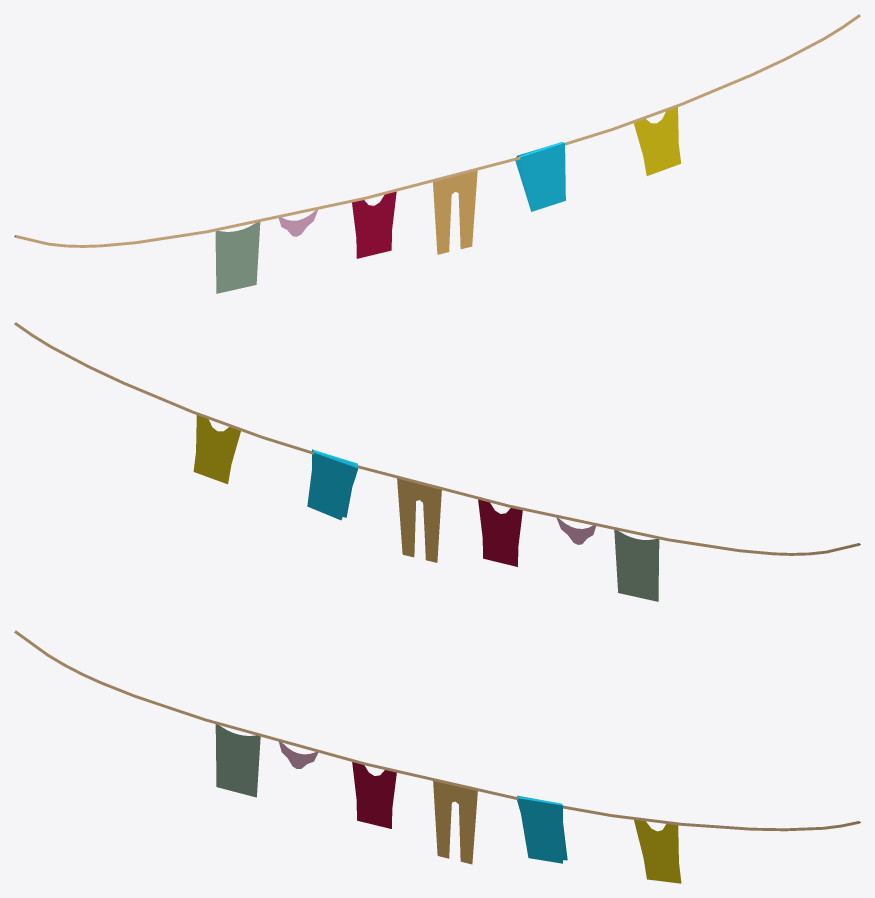
The model's file is mesh_Bog_Clothsline.fbx.
3 renders of one model, top to bottom at view 1: azimuth 30°, elevation 25°; view 2: azimuth 150°, elevation 25°; view 3: azimuth 330°, elevation 25°, orthographic.
Visible parts, largest first — view 1: Bog_Clothsline; view 2: Bog_Clothsline; view 3: Bog_Clothsline.
Part boxes in pixels (x1,y1,x2,y2): Bog_Clothsline: (14,14,860,293); Bog_Clothsline: (14,322,860,601); Bog_Clothsline: (14,630,860,883).
Bounding box in the file's own units: 1600 × 250 × 9.49.
2 materials, 2 textured.
